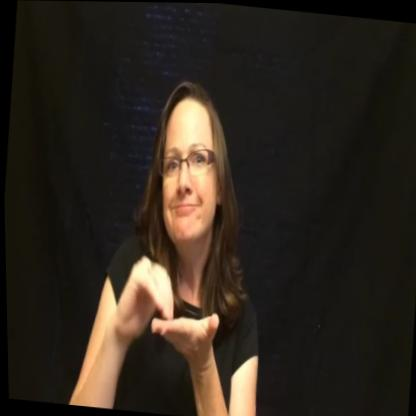ExcuseMe: (91, 232, 236, 388)
